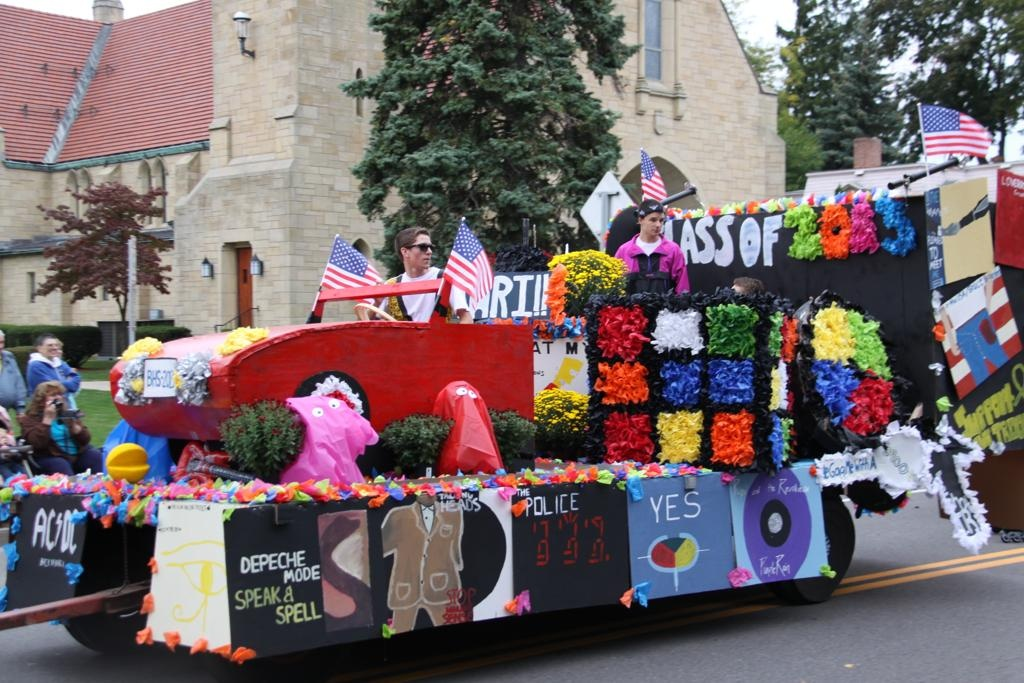human_face: (406, 231, 432, 269), (728, 284, 754, 316), (642, 210, 664, 236), (47, 390, 65, 412), (38, 336, 56, 358), (52, 340, 62, 359)
